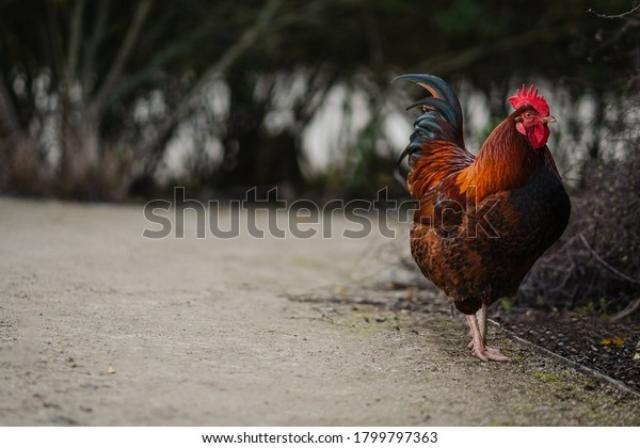Chicken: (391, 73, 571, 361)
